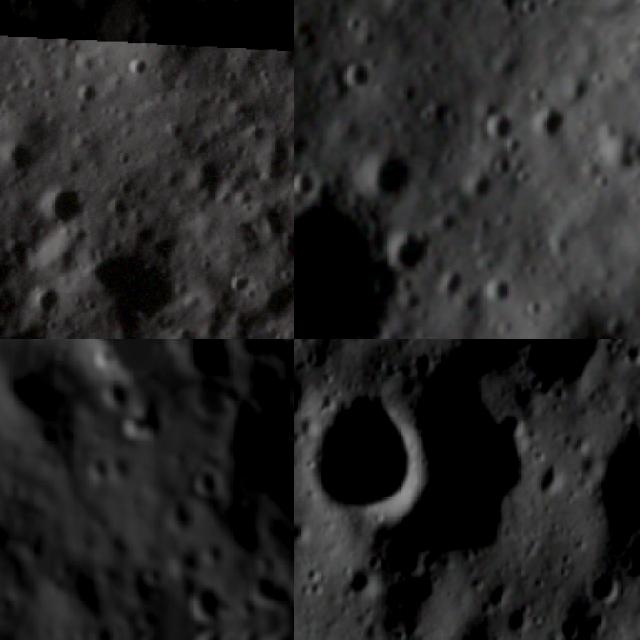crater: (294, 158, 449, 339), (297, 373, 423, 537), (60, 237, 201, 339), (21, 162, 110, 248), (585, 422, 640, 551), (348, 132, 430, 212), (0, 339, 71, 429), (510, 290, 640, 339), (197, 0, 294, 51), (378, 216, 448, 286), (522, 91, 587, 154), (466, 92, 524, 153), (582, 562, 633, 614), (474, 266, 524, 319), (184, 576, 232, 628), (336, 46, 384, 96), (457, 160, 504, 208), (185, 455, 227, 501), (333, 564, 381, 604), (432, 262, 474, 305), (294, 0, 360, 27), (75, 449, 117, 490), (294, 153, 329, 202), (97, 372, 139, 410), (612, 120, 640, 175), (162, 493, 200, 533), (81, 339, 124, 374), (193, 532, 230, 572), (135, 554, 172, 594), (510, 0, 553, 29), (107, 626, 154, 636)
